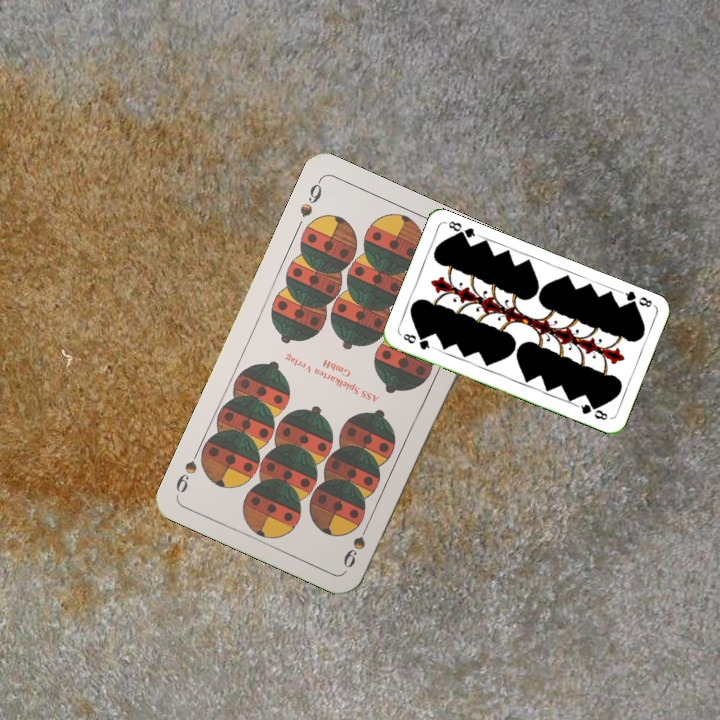G8: (617, 287, 656, 311), (399, 329, 436, 353)
S9: (339, 516, 373, 571), (296, 175, 325, 220)
